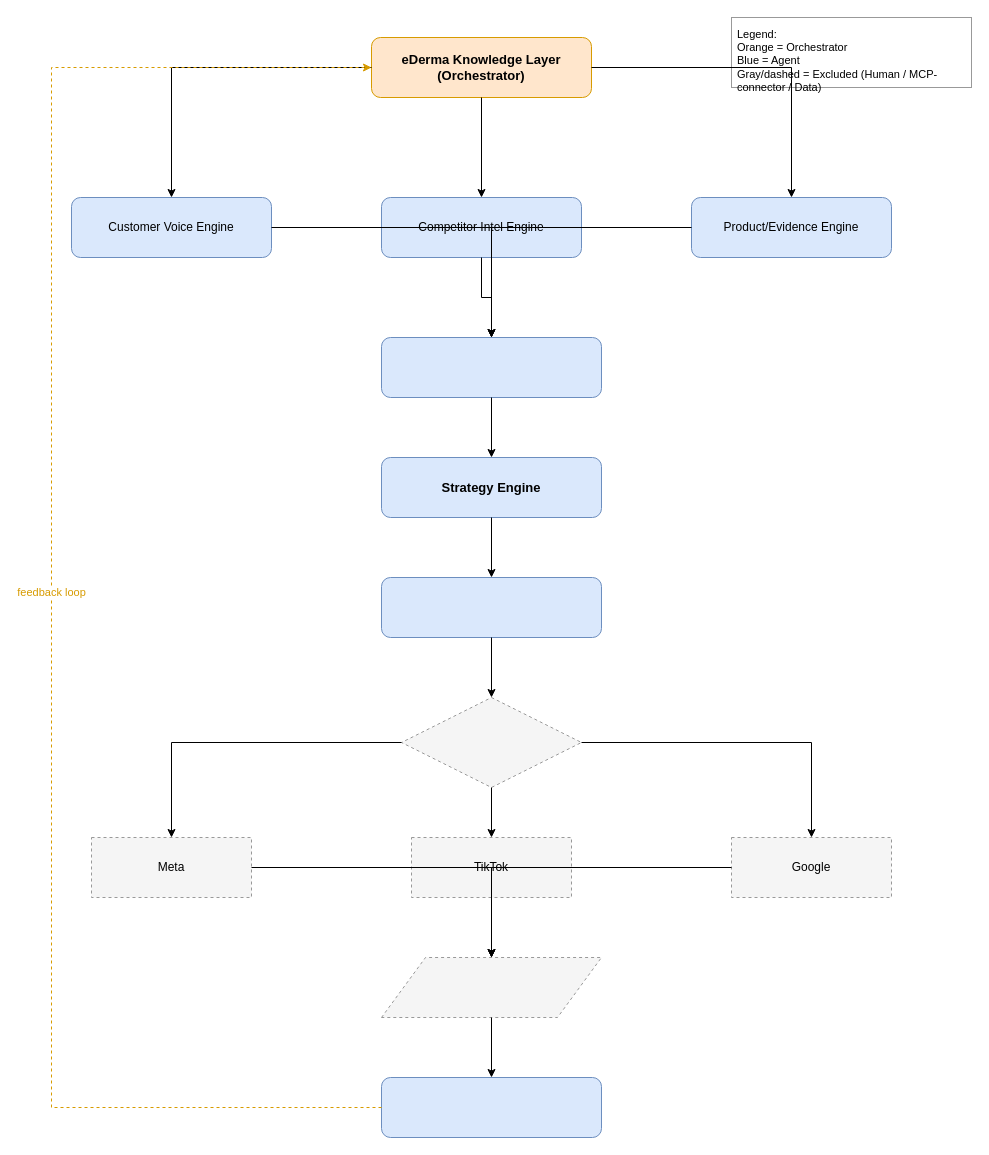
This 989x1155 diagram has some shape labels left out. Here are the shapes that lost their labels. From the top down, the box of each, then its label:
(380, 336, 602, 398): Intelligence Engine
(380, 576, 602, 638): Creative Engine
(400, 696, 582, 788): Human Approval
(380, 956, 602, 1018): Performance Data
(380, 1076, 602, 1138): Learning Engine
